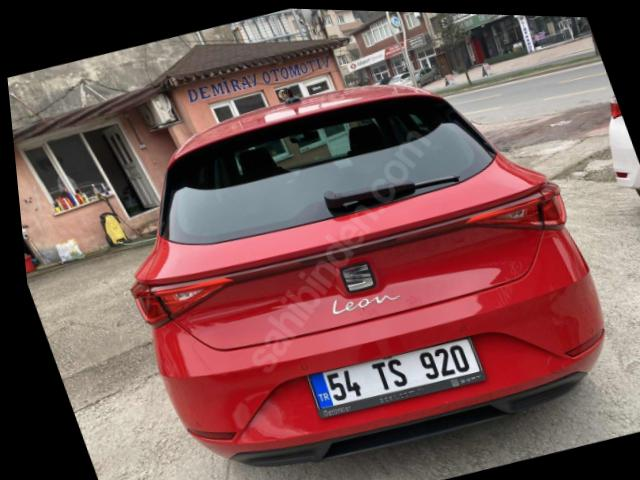plaka: (309, 338, 485, 416)
